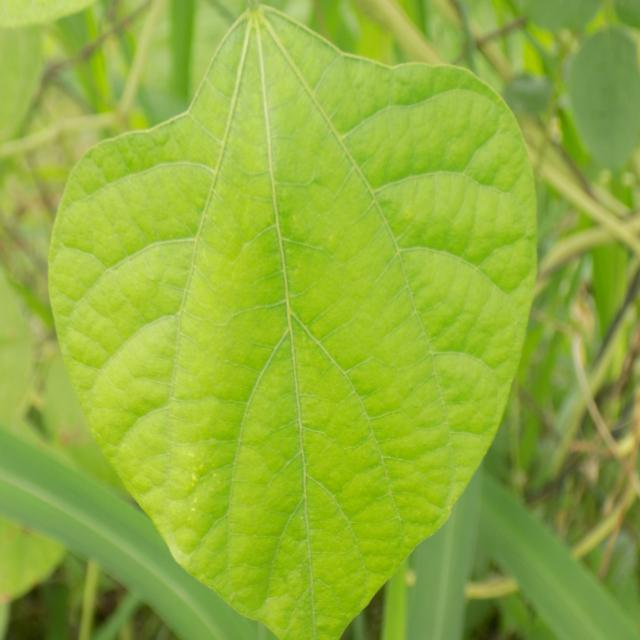Dolicos bean_healthy: (53, 8, 540, 640)
